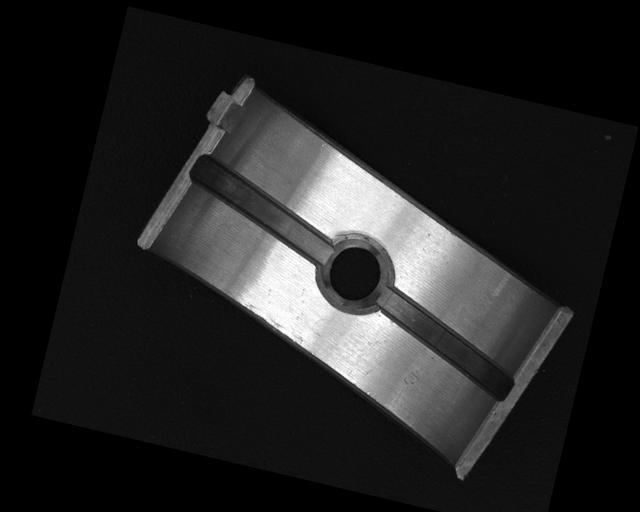gap: (359, 284, 529, 403), (178, 154, 345, 267)
hole: (314, 230, 396, 317)
